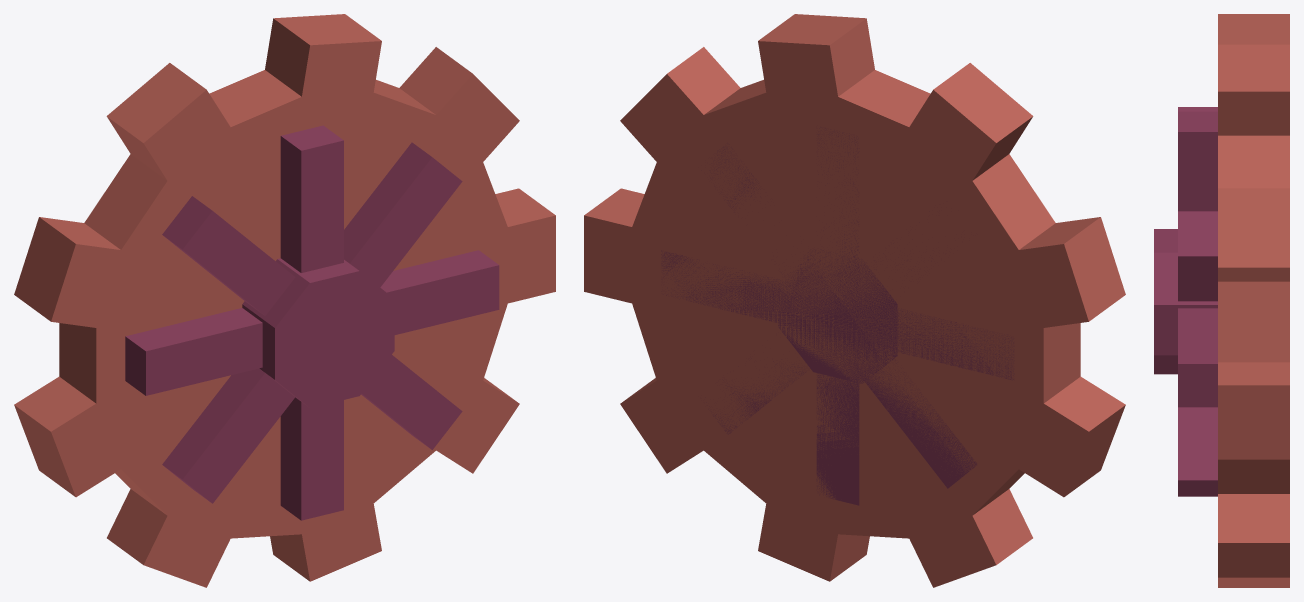
File: gear_small.glb
3 renders of one model, left to right at view 1: azimuth 30°, elevation 25°; view 2: azimuth 150°, elevation 25°; view 3: azimuth 270°, elevation 25°, orthographic. The views are drawn at different scales.
Visible parts, largest first — view 1: Ring, Sp1, Sp2, Sp0, Hub, Sp3; view 2: Ring, Hub, Sp0, Sp2, Sp1, Sp3; view 3: Ring, Sp2, Sp0, Hub, Sp3, Sp1.
Boxes of the visible parts, <box> form: Ring: <box>14,14,555,587</box>; Sp1: <box>162,142,462,503</box>; Sp2: <box>280,125,343,520</box>; Sp0: <box>125,250,499,395</box>; Hub: <box>242,258,394,407</box>; Sp3: <box>162,196,462,449</box>; Ring: <box>584,14,1125,587</box>; Hub: <box>778,249,897,383</box>; Sp0: <box>661,250,1014,380</box>; Sp2: <box>816,127,859,505</box>; Sp1: <box>701,143,976,488</box>; Sp3: <box>705,211,932,434</box>; Ring: <box>1218,14,1289,587</box>; Sp2: <box>1178,111,1217,211</box>; Sp0: <box>1178,308,1217,407</box>; Hub: <box>1154,229,1217,374</box>; Sp3: <box>1178,107,1217,496</box>; Sp1: <box>1178,211,1217,301</box>.
Size of the model in its own units: 1.42 by 1.44 by 0.34.
